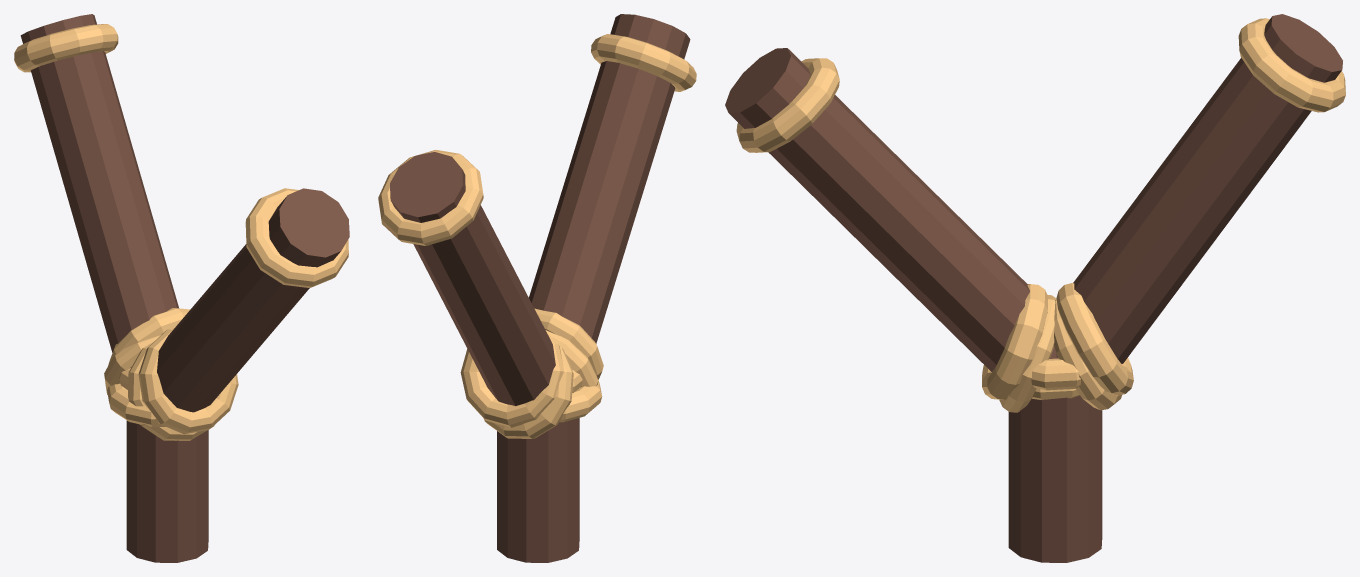
The model's file is slingshot.glb.
3 renders of one model, left to right at view 1: azimuth 30°, elevation 25°; view 2: azimuth 150°, elevation 25°; view 3: azimuth 270°, elevation 25°, orthographic. The views are drawn at different scales.
Parts seen in each view (by area): view 1: Node; view 2: Node; view 3: Node.
Boxes of the visible parts, <box> form: Node: <box>14,14,349,562</box>; Node: <box>378,14,696,562</box>; Node: <box>725,14,1345,562</box>.
Bounding box in the file's own units: 0.2038 × 0.7792 × 0.8395.
